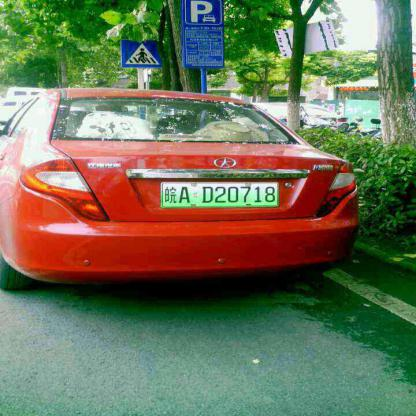lp: (163, 182, 278, 206)
